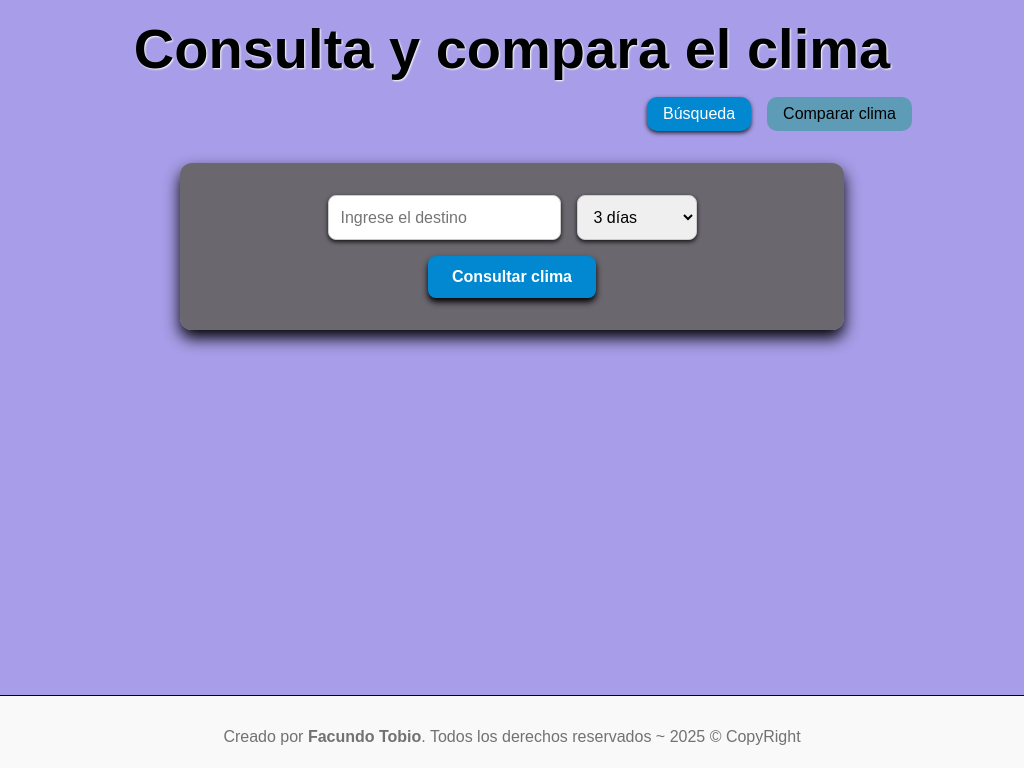
Scenario: Validaciones y errores en la búsqueda › Muestra error para números
The width and height of the screenshot is (1024, 768).
Type "123" into the field with test id "input-ciudad" at (445, 218), box [328,195,561,240]
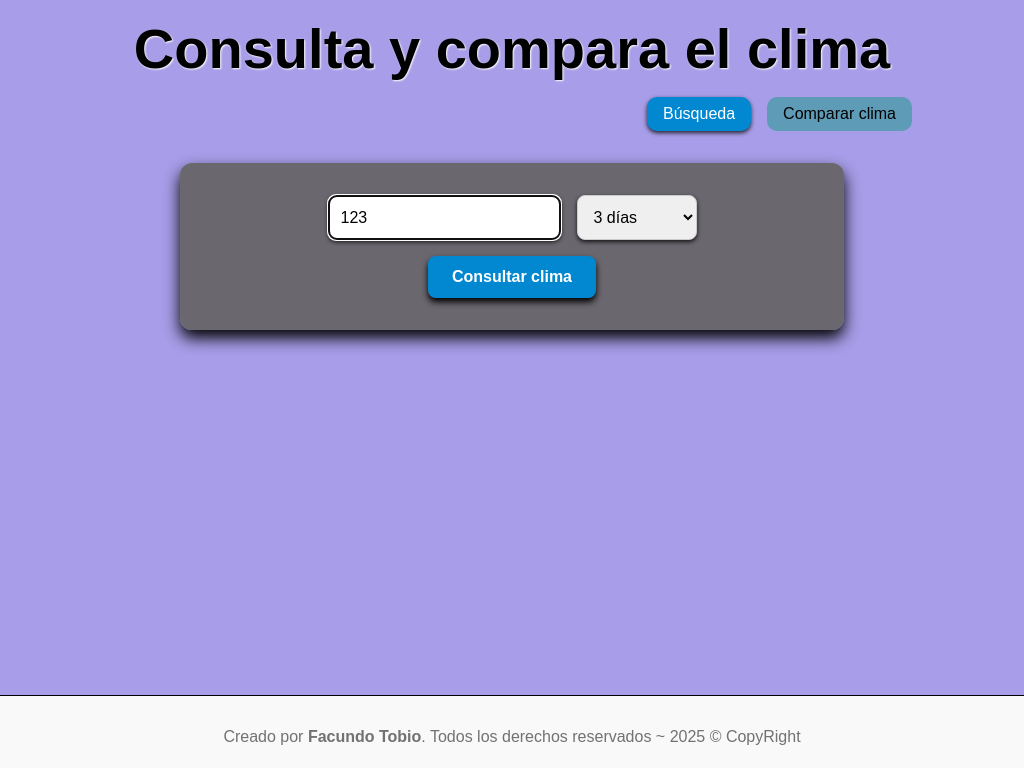
Click the button with test id "boton-submit" at (512, 277), box [428,256,596,298]
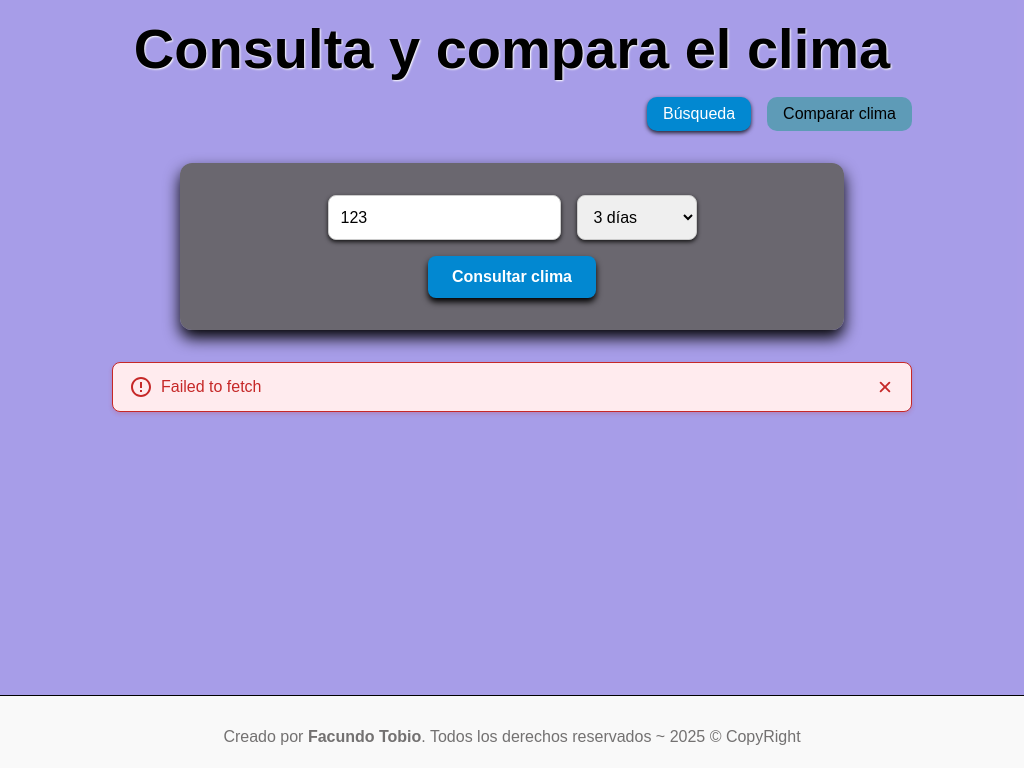
Result: the element with test id "error" is shown at [112,362,912,412]
